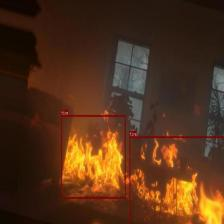fire: (129, 136, 224, 224), (61, 115, 126, 198)
